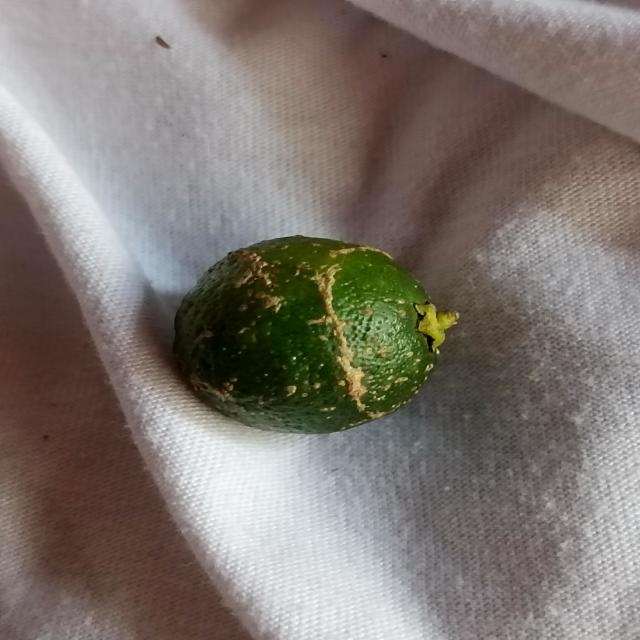scab: (172, 230, 443, 436)
